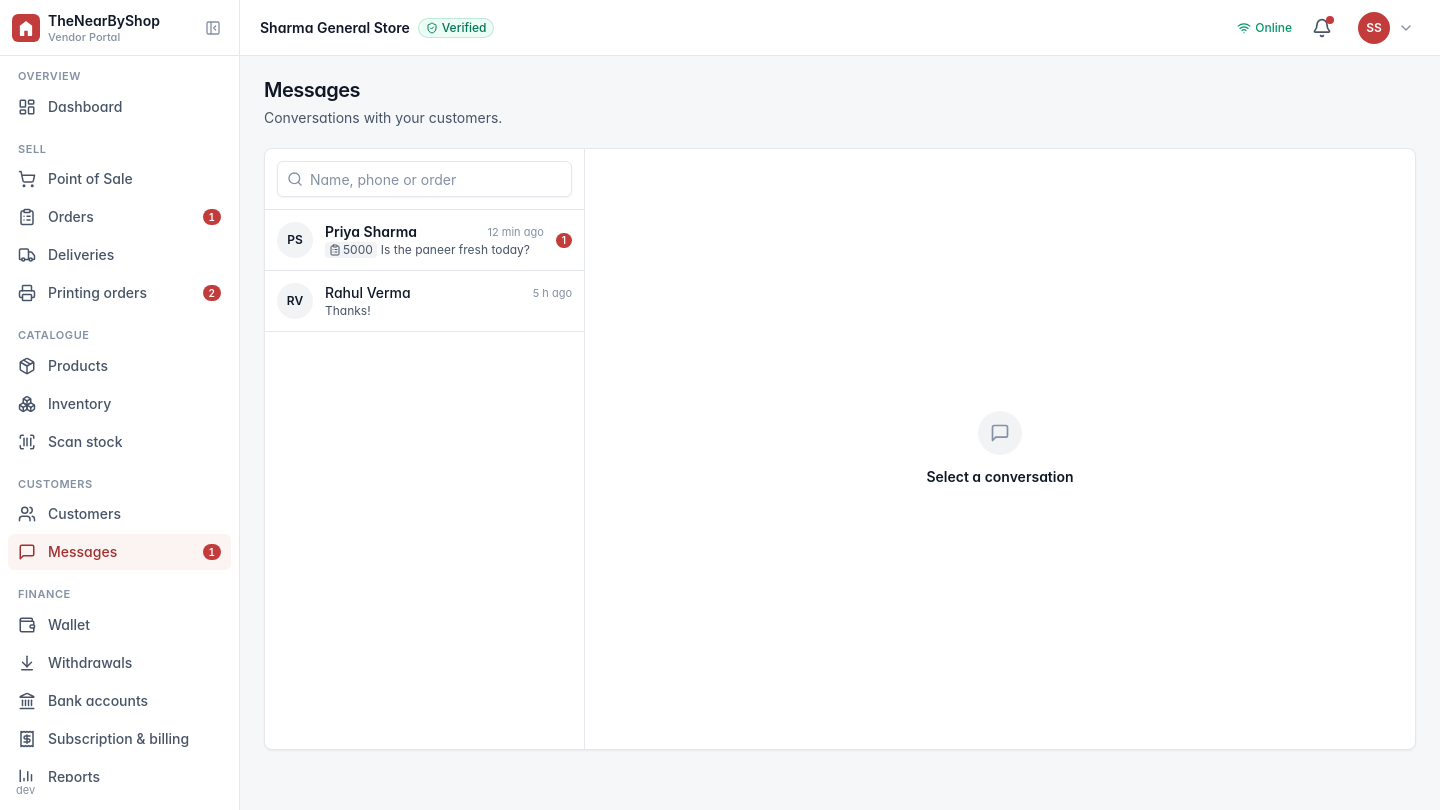
chat conversations › lists threads with unread counts, opens one and sends a message
The width and height of the screenshot is (1440, 810).
Check: the text named "1 unread" is shown, box [556,232,572,248]
Click the button "PS Priya Sharma 12 min ago 5000 Is the paneer fresh today? 1" at (424, 240), box [265,210,584,271]
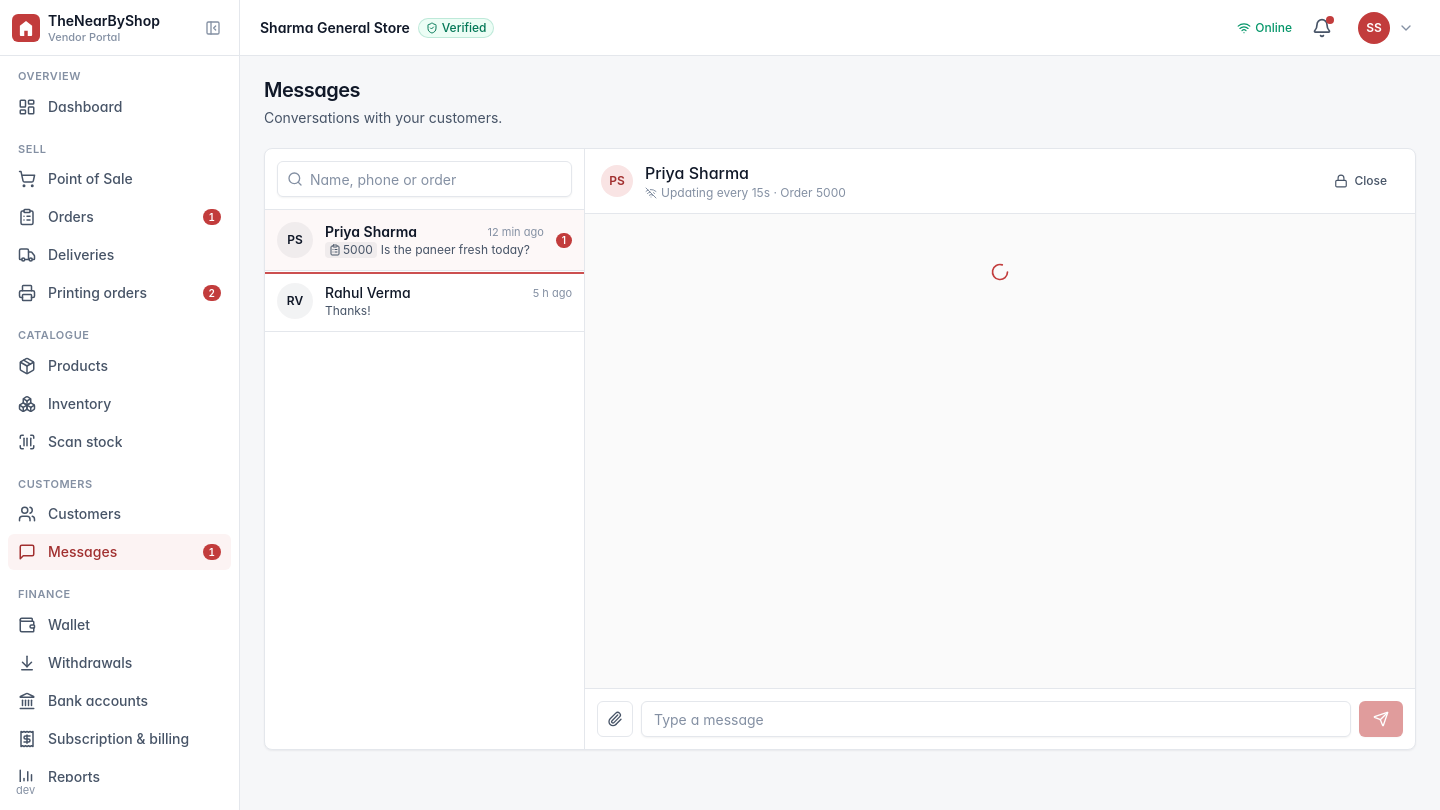
Check: the text "Is the paneer fresh today?" is shown, box [381,242,530,258]
Type "Yes, made this morning" into the field labelled "message" at (996, 719), box [641,701,1351,737]
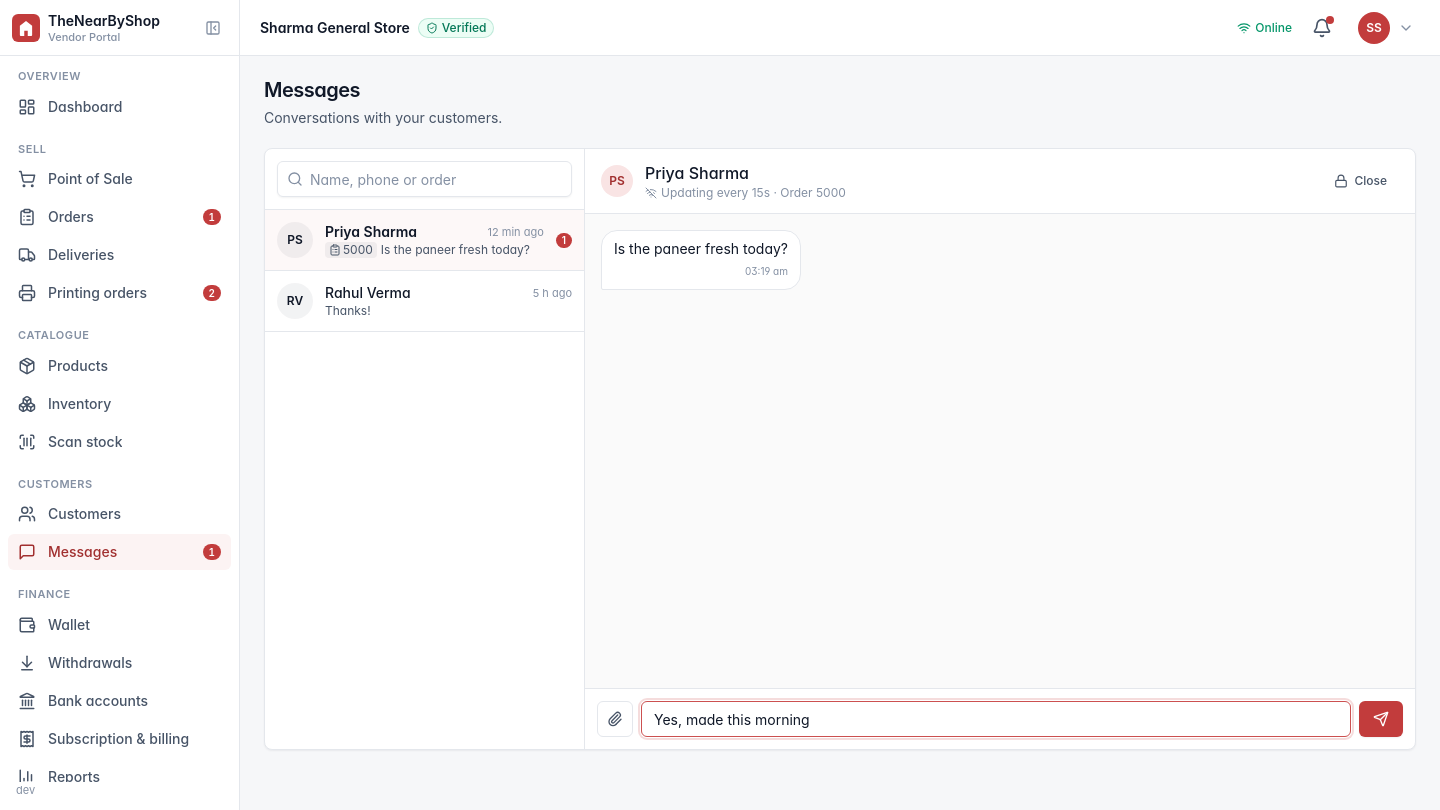
Click the button named "Send message" at (1381, 719), box [1359,701,1403,737]
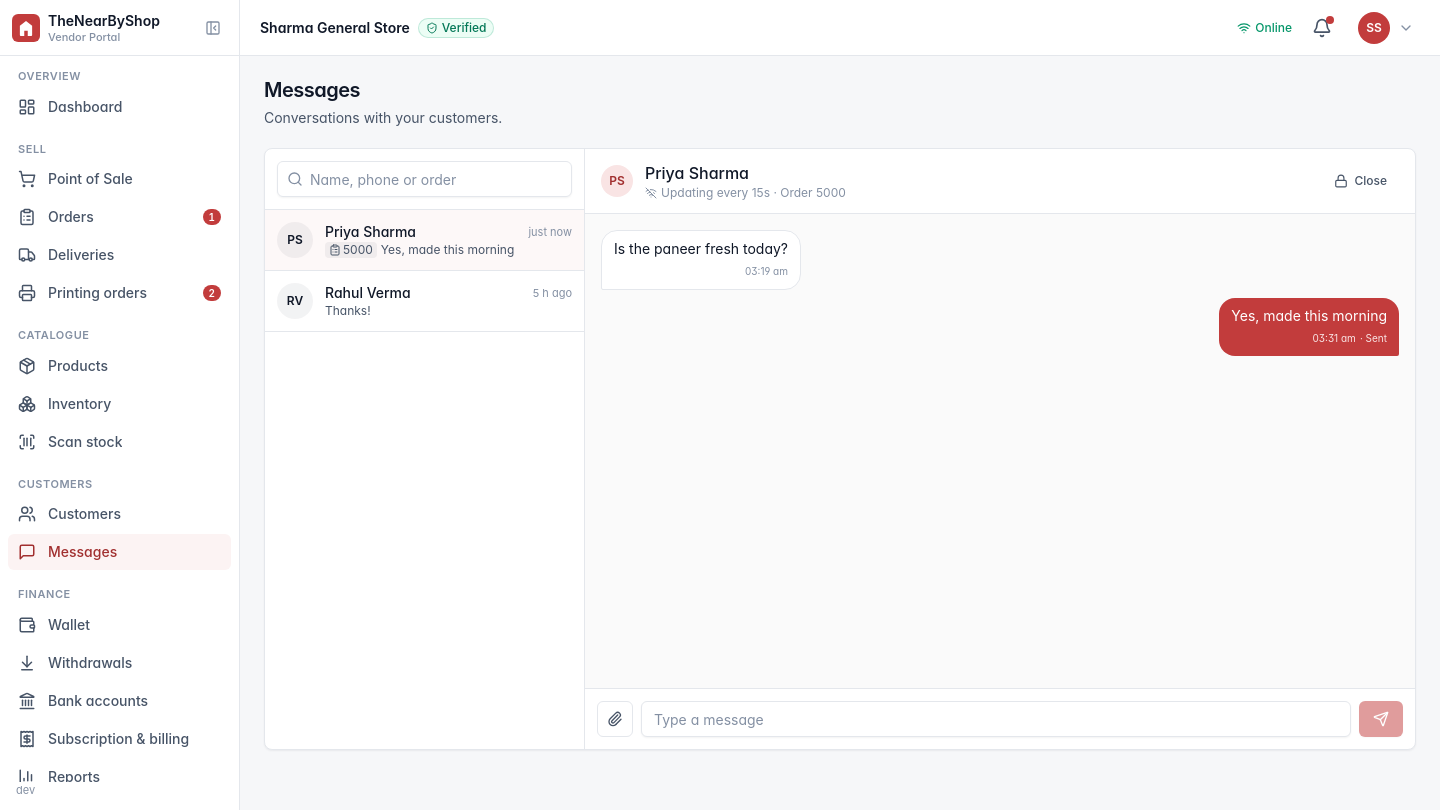
Check: the 1st text "Yes, made this morning" is shown, box [381,242,514,258]
